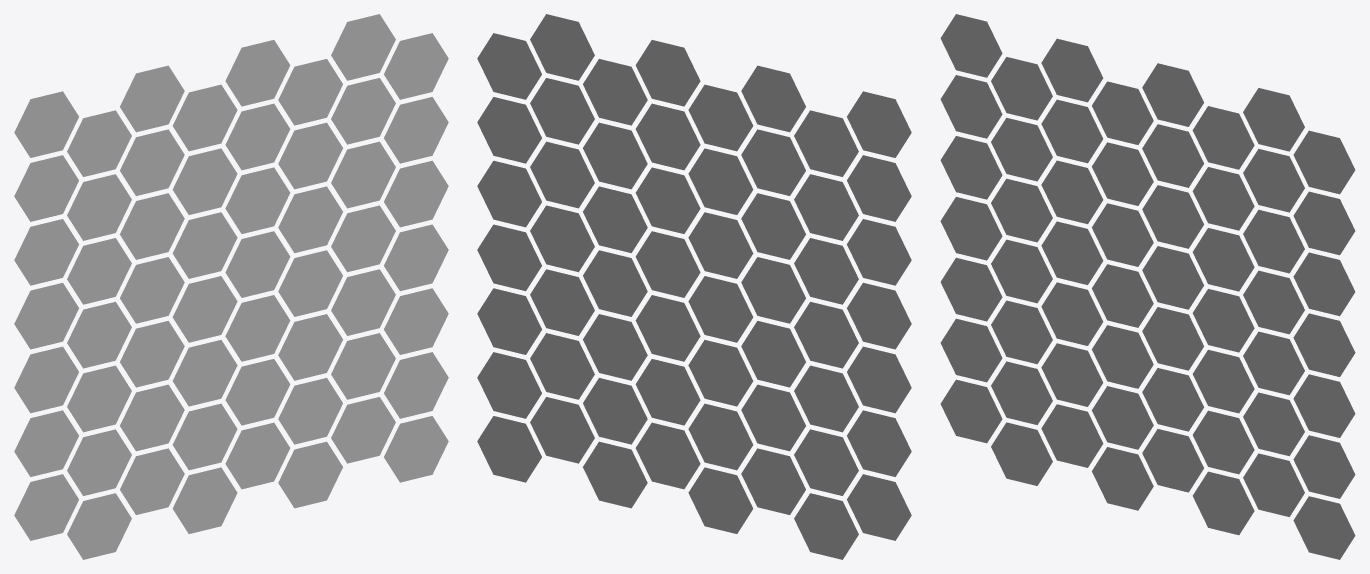
The model's file is hexagonmosaic.gltf.
The picture shows the model from 3 angles, left to right: view 1: azimuth 30°, elevation 25°; view 2: azimuth 150°, elevation 25°; view 3: azimuth 330°, elevation 25°; orthographic projection. The views are drawn at different scales.
Visible parts, largest first — view 1: hexagonmosaic; view 2: hexagonmosaic; view 3: hexagonmosaic.
Part boxes in pixels (box(x1,y1,x2,y2)): hexagonmosaic: box(14, 14, 448, 559); hexagonmosaic: box(477, 14, 911, 559); hexagonmosaic: box(940, 14, 1355, 559).
Size of the model in its own units: 297 by 309 by 0.
Materials: 56 (56 with a texture image).
